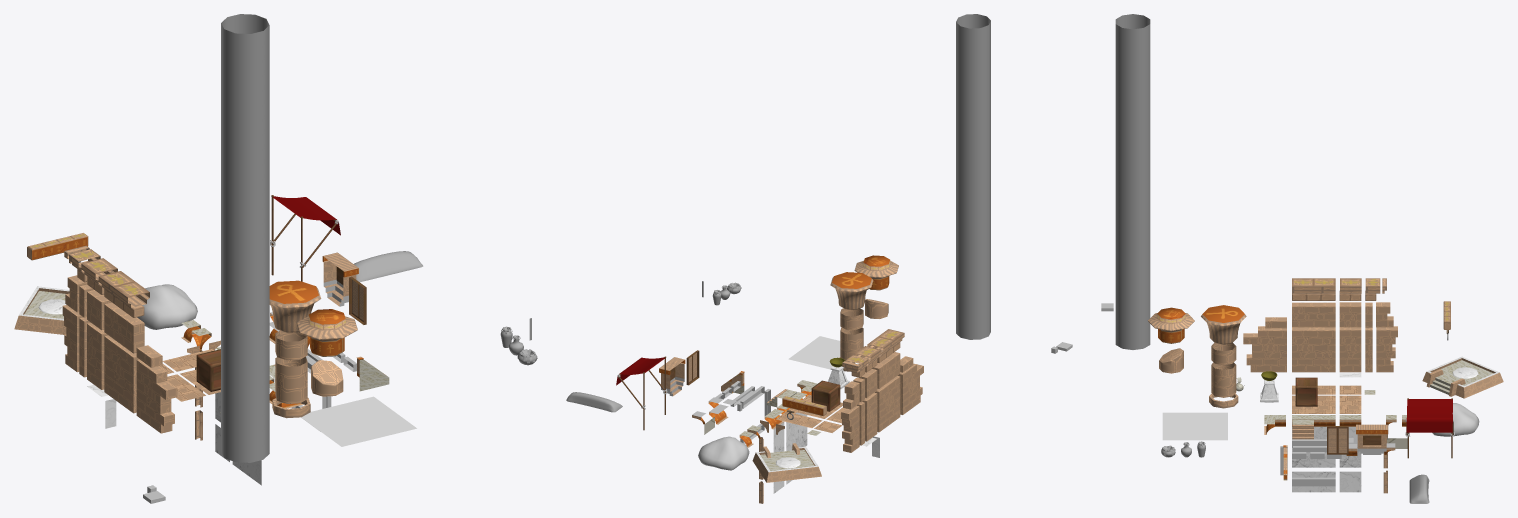
The model's file is ModularAssets.fbx.
3 views of the same model, side by side, from view 1: azimuth 30°, elevation 25°; view 2: azimuth 150°, elevation 25°; view 3: azimuth 270°, elevation 25° (orthographic). The views are drawn at different scales.
Visible parts, largest first — view 1: FallingSand, MovableRoof, BrickWallBrokenx5, BrickWall4x4, Pillar_Top, Pillar_Top2, Sand1, Shrine, Canopy2, Pillar_Midx2, BrickWall4x2, Window2 (+10 smaller); view 2: FallingSand, Shrine, Sand1, Pillar_Top, MovableRoof, BrickWall4x4, Pillar_Top2, BrickWallBrokenx5, Canopy2, BrickWallBrokenx2, Window2, Box (+4 smaller); view 3: FallingSand, Shrine, BrickWall4x4, MovableRoof, BrickWallBrokenx5, Canopy2, Pillar_Top, BrickWall4x2, Pillar_Top2, BrickWall2x4, Window2, BrickWallBrokenx2 (+14 smaller).
Boxes of the visible parts, x1,y1,x2,y2 form: FallingSand: (221,14,269,462); MovableRoof: (301,396,416,446); BrickWallBrokenx5: (136,359,177,433); BrickWall4x4: (104,335,139,413); Pillar_Top: (269,280,321,332); Pillar_Top2: (296,309,357,356); Sand1: (137,284,197,329); Shrine: (14,286,69,334); Canopy2: (270,195,340,281); Pillar_Midx2: (275,356,307,403); BrickWall4x2: (104,302,144,353); Window2: (322,252,358,306); FallingSand: (956,14,990,339); Shrine: (752,443,821,482); Sand1: (698,436,749,470); Pillar_Top: (830,272,873,309); MovableRoof: (788,336,855,371); BrickWall4x4: (875,376,900,432); Pillar_Top2: (854,255,898,290); BrickWallBrokenx5: (897,363,923,414); Canopy2: (616,356,667,430); BrickWallBrokenx2: (841,405,859,452); Window2: (659,357,685,396); Box: (811,380,840,411); FallingSand: (1115,14,1150,349); Shrine: (1422,356,1503,398); BrickWall4x4: (1292,327,1335,372); MovableRoof: (1162,412,1227,440); BrickWallBrokenx5: (1243,326,1286,372); Canopy2: (1405,398,1454,458); Pillar_Top: (1201,305,1246,344); BrickWall4x2: (1292,302,1335,327); Pillar_Top2: (1148,307,1194,343); BrickWall2x4: (1339,327,1361,372); Window2: (1356,424,1388,454); BrickWallBrokenx2: (1376,326,1397,372).
Size of the model in its own units: 22.79 by 25.83 by 22.13.
